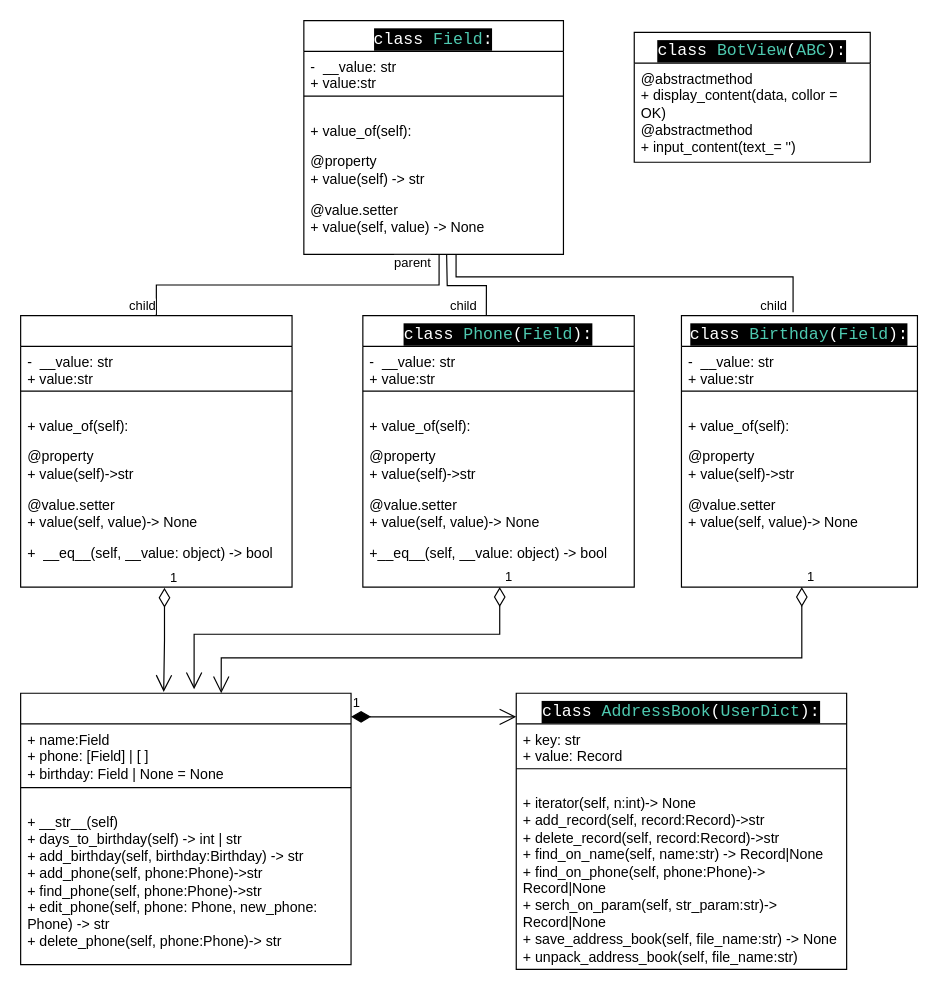
Some shapes in this 938 by 994 pixel diagram are drawn without their labels. Here are the shapes that lost their labels. From the top down, the box of each, then its label:
(19, 314, 292, 587): class Name ( Field ):
(19, 692, 351, 965): class Record :
